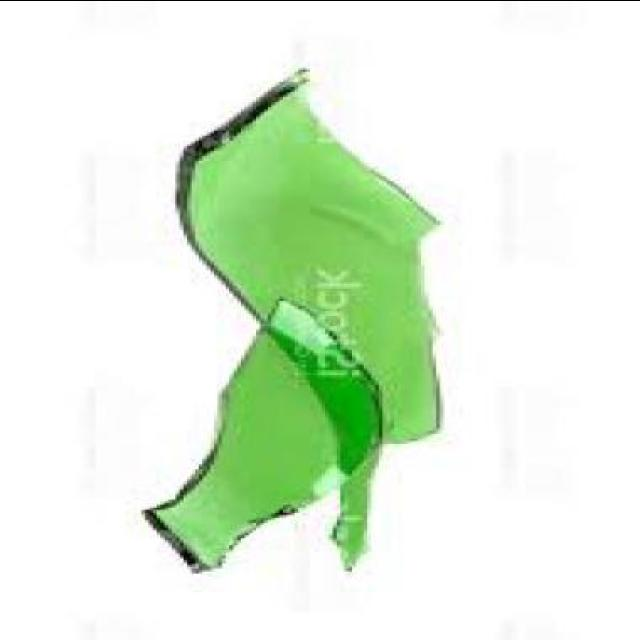kaca: (187, 70, 448, 572), (141, 296, 391, 574)
